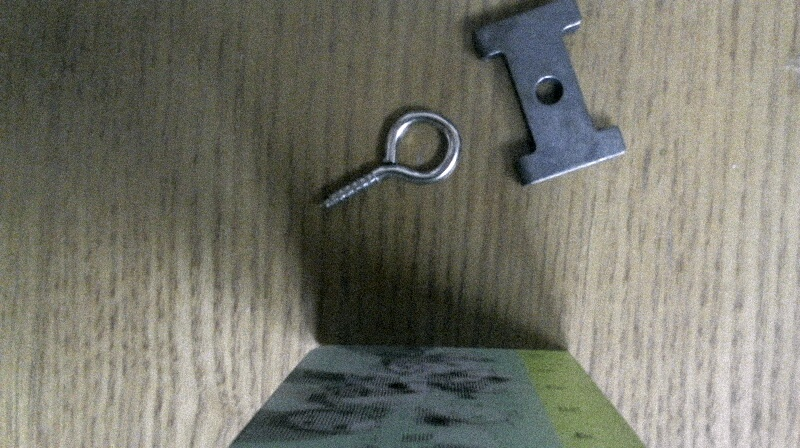O001: (316, 107, 464, 211)
O002: (470, 0, 629, 189)
